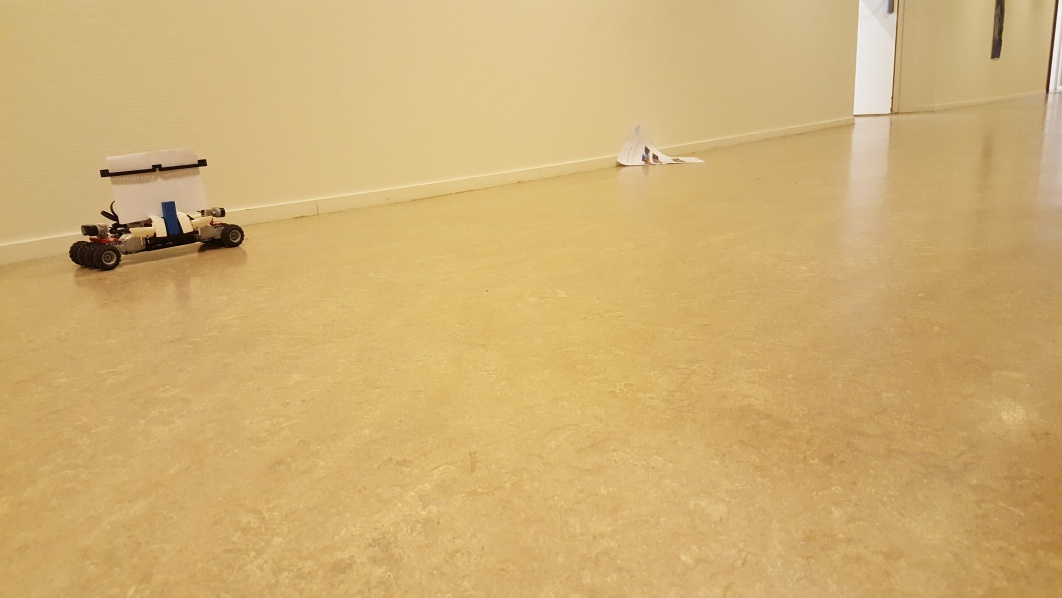beam: (156, 199, 179, 237)
